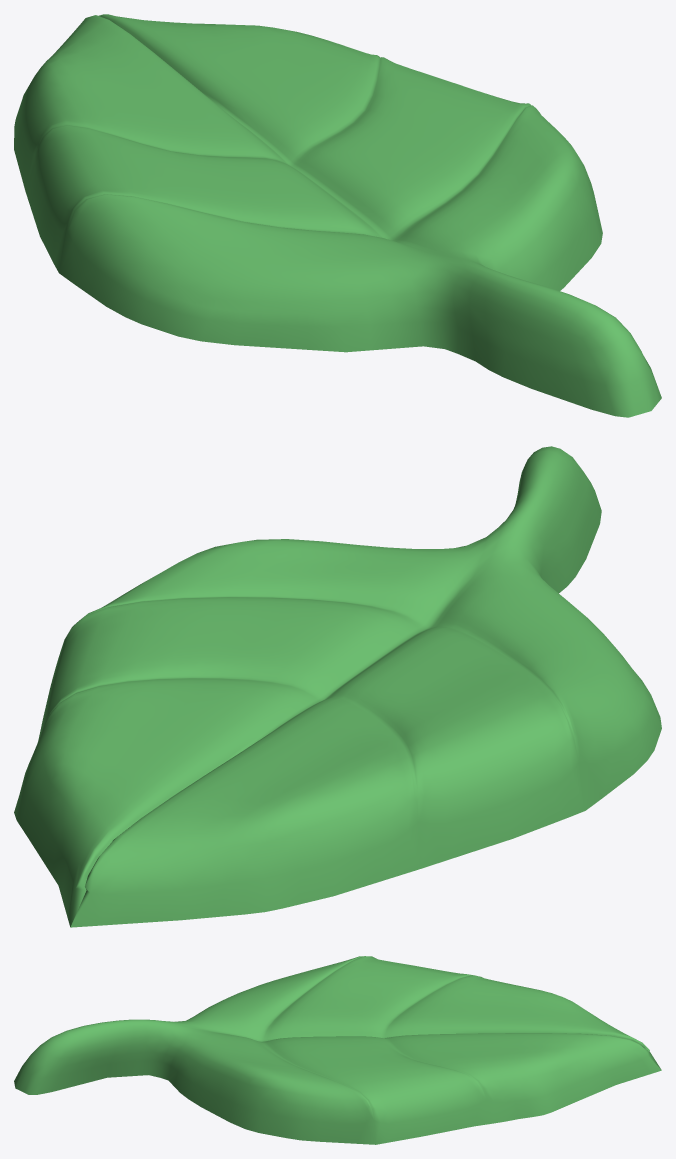
The model's file is daun jejala.glb.
3 views of the same model, one above another, from view 1: azimuth 30°, elevation 25°; view 2: azimuth 150°, elevation 25°; view 3: azimuth 270°, elevation 25° (orthographic). The views are drawn at different scales.
Visible parts, largest first — view 1: pPlane1; view 2: pPlane1; view 3: pPlane1.
Boxes of the visible parts, left/top/right/bottom form: pPlane1: left=14, top=14, right=661, bottom=417; pPlane1: left=14, top=446, right=661, bottom=927; pPlane1: left=14, top=956, right=661, bottom=1144.
Size of the model in its own units: 0.6765 by 0.111 by 1.24.
